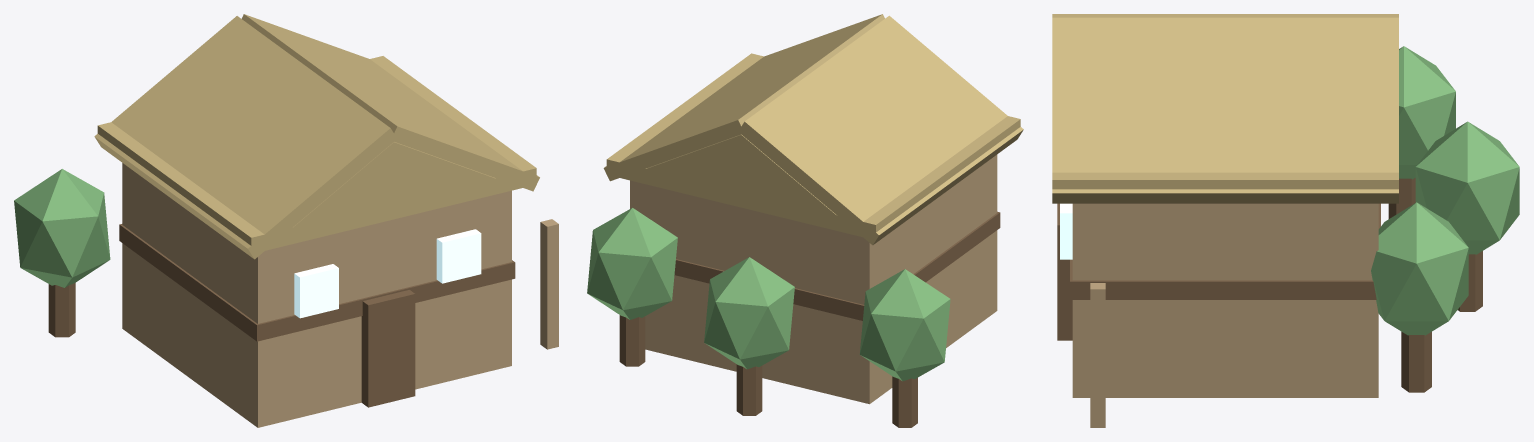
Rendered from forester.glb.
The picture shows the model from 3 angles, left to right: view 1: azimuth 30°, elevation 25°; view 2: azimuth 150°, elevation 25°; view 3: azimuth 270°, elevation 25°; orthographic projection. The views are drawn at different scales.
Parts seen in each view (by area): view 1: ForesterWall; view 2: ForesterWall; view 3: ForesterWall.
Part boxes in pixels (left/top/right/bottom): ForesterWall: left=14, top=14, right=558, bottom=427; ForesterWall: left=587, top=14, right=1023, bottom=427; ForesterWall: left=1052, top=14, right=1519, bottom=427.
Size of the model in its own units: 2.04 by 1.35 by 1.83.
